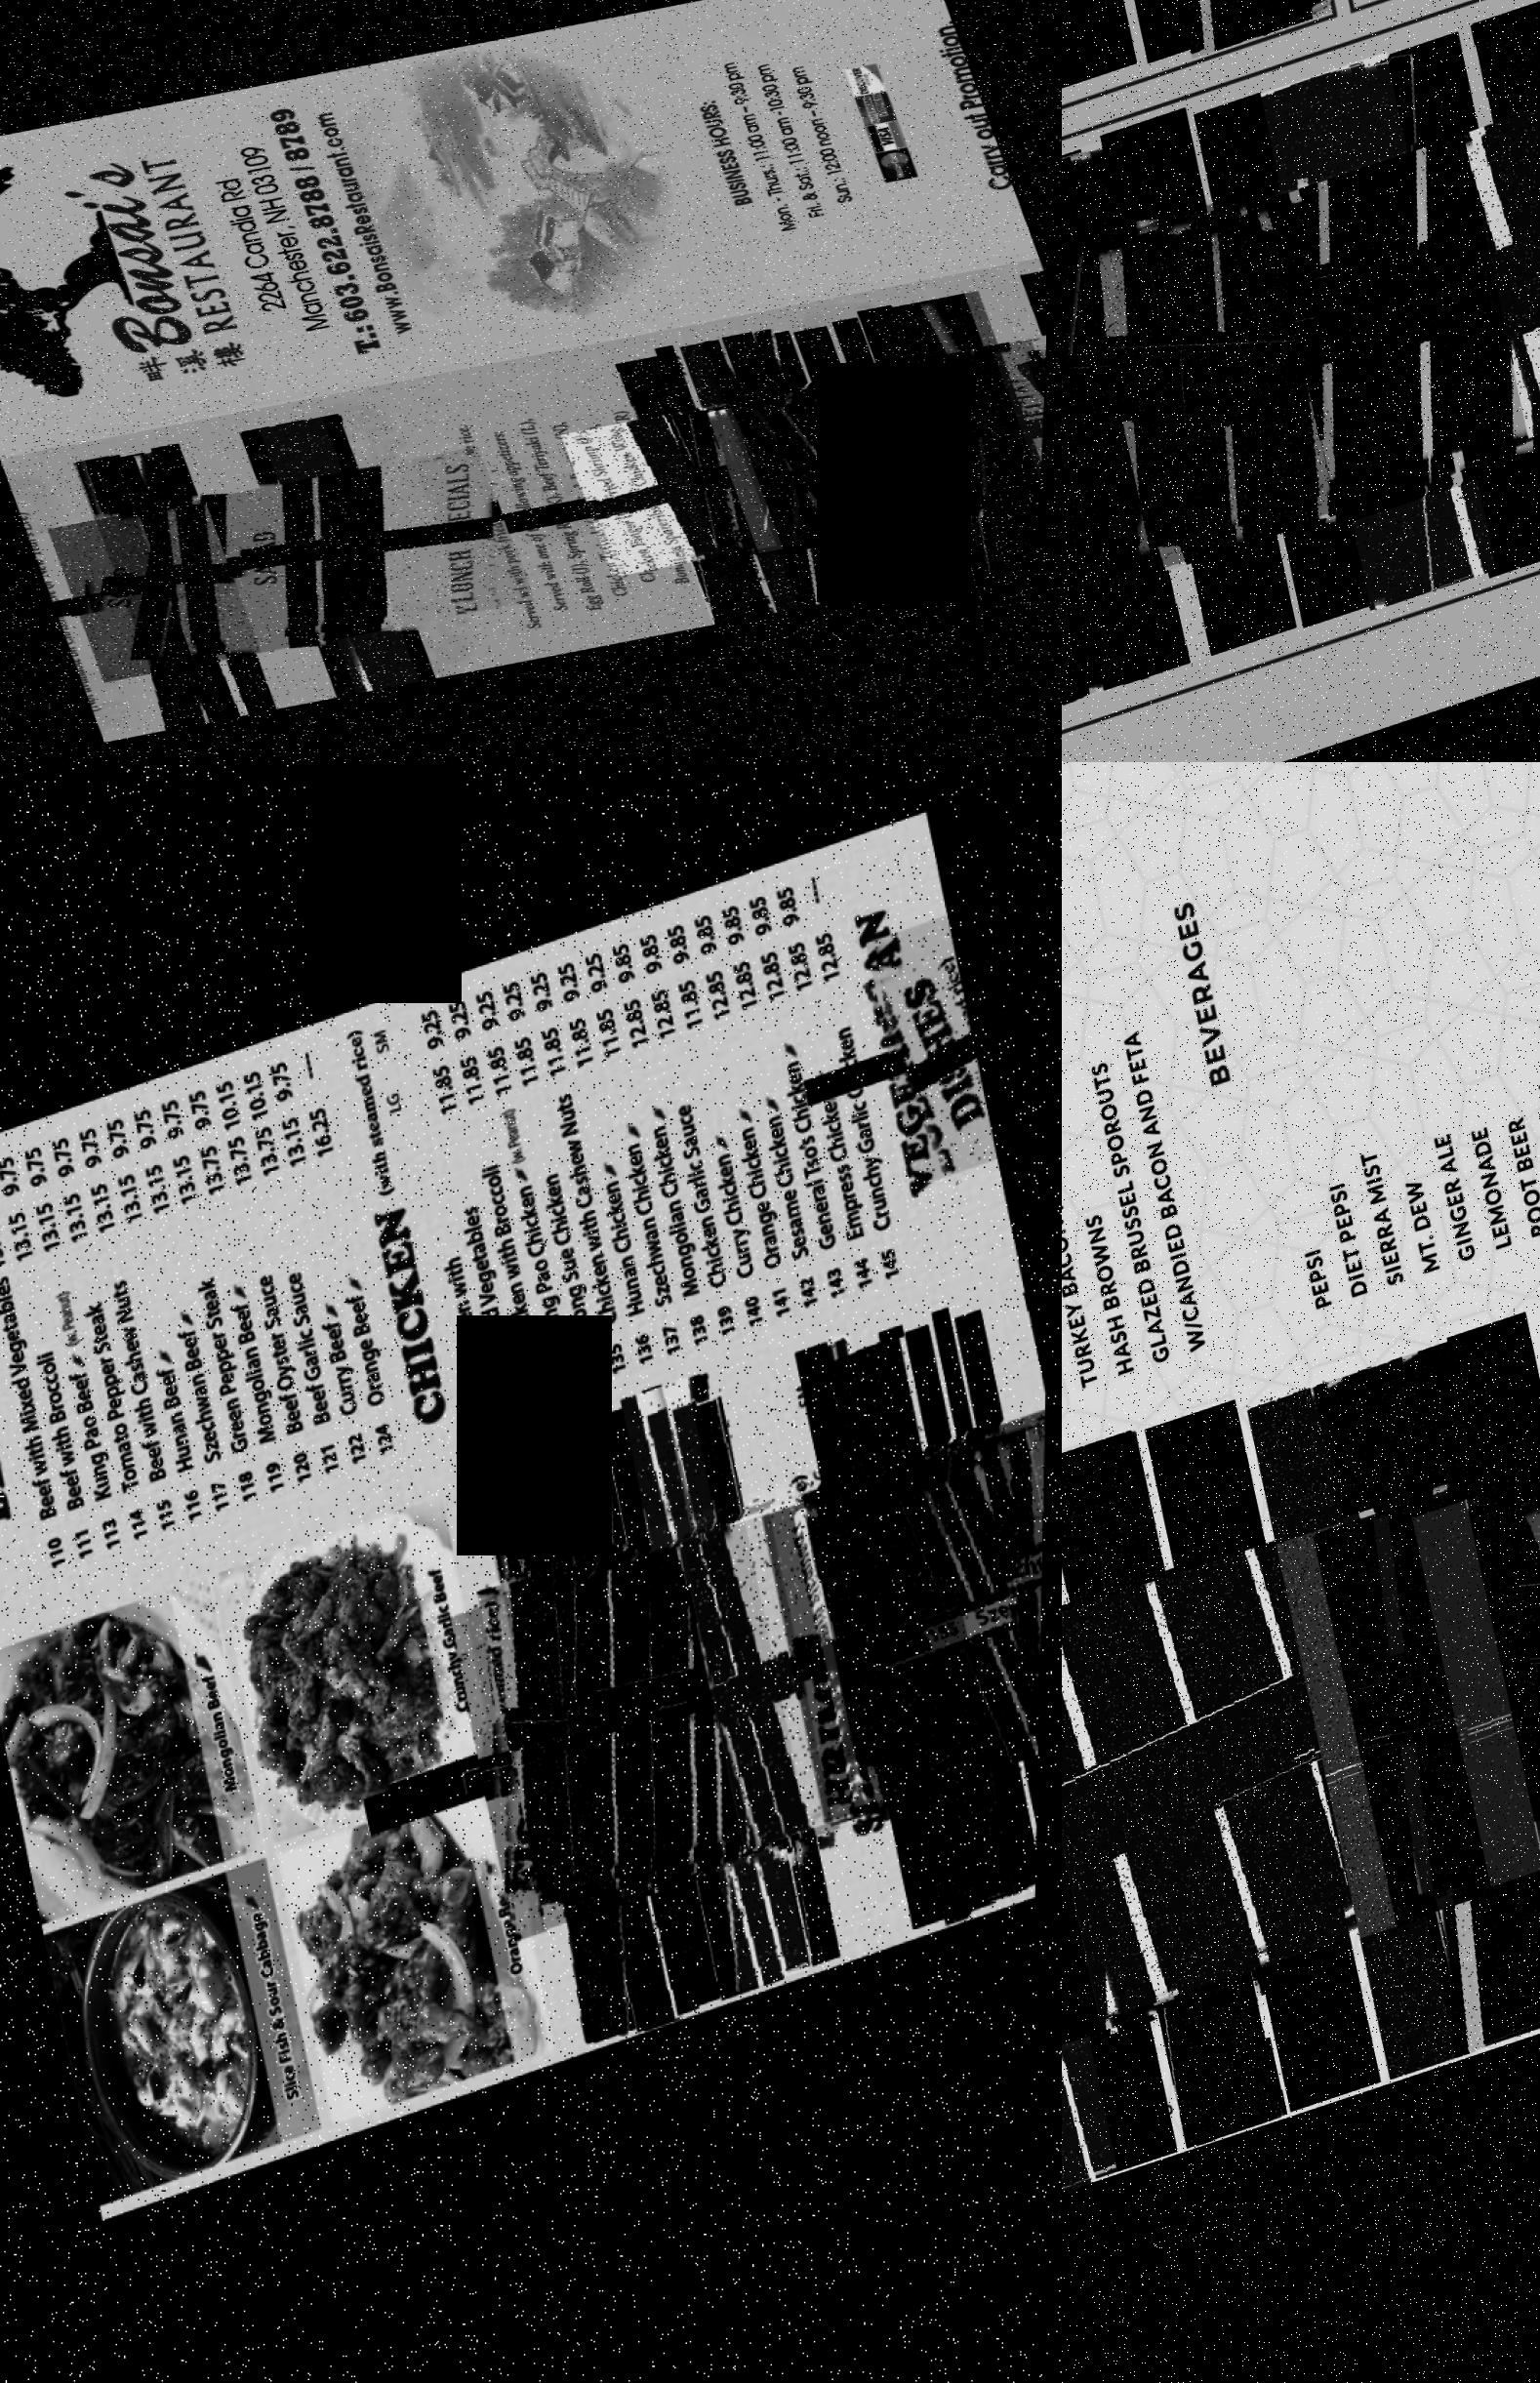Menu-Items: (1063, 1504, 1526, 2043), (474, 1483, 896, 1949), (1240, 1383, 1497, 2114), (1063, 1429, 1307, 2178), (1085, 163, 1498, 603), (446, 1509, 851, 1957), (1311, 1346, 1540, 2089), (550, 1485, 941, 1918), (1063, 179, 1413, 627), (681, 1442, 1049, 1867), (1063, 1558, 1337, 2117), (1255, 64, 1516, 646), (497, 1423, 722, 2062), (613, 1381, 825, 2020), (821, 1344, 1033, 1951), (469, 1443, 667, 2067), (1316, 1419, 1540, 1952), (1269, 122, 1540, 554), (762, 1435, 1049, 1841), (818, 1332, 990, 1956), (802, 1426, 1049, 1834), (688, 1391, 854, 1994), (795, 1445, 1049, 1827), (1063, 151, 1224, 728), (837, 1440, 1049, 1827), (1063, 762, 1191, 1400), (137, 460, 479, 672), (205, 448, 545, 660), (47, 476, 389, 686), (382, 1002, 536, 1454), (727, 358, 1050, 566), (1413, 1409, 1540, 1916), (1063, 1601, 1174, 2178), (667, 377, 986, 573), (1063, 1480, 1144, 2242), (1063, 762, 1158, 1412), (561, 393, 875, 587), (592, 931, 727, 1381), (200, 1065, 335, 1515), (488, 971, 622, 1423), (759, 351, 1050, 558), (705, 373, 1017, 566), (731, 893, 866, 1337), (63, 1105, 194, 1555), (790, 875, 925, 1313), (625, 922, 755, 1374), (280, 1039, 413, 1478), (566, 947, 698, 1388), (172, 1073, 300, 1525), (679, 912, 811, 1351), (10, 1125, 141, 1570), (434, 988, 563, 1438), (144, 1082, 273, 1528), (543, 955, 672, 1396), (226, 1061, 354, 1502), (92, 1098, 219, 1544), (118, 1096, 247, 1535), (519, 962, 646, 1405), (762, 881, 887, 1322), (653, 922, 778, 1362), (40, 1122, 165, 1561), (696, 333, 884, 624), (255, 1051, 380, 1485), (710, 907, 832, 1337), (90, 446, 273, 733), (469, 981, 589, 1417), (253, 415, 434, 703), (0, 1136, 111, 1584), (879, 306, 1045, 591), (69, 450, 226, 736), (675, 344, 830, 627), (613, 360, 767, 639), (1113, 1011, 1226, 1388), (910, 299, 1052, 585), (1467, 24, 1540, 582), (863, 931, 1004, 1212), (1063, 762, 1122, 1419), (0, 1146, 85, 1589), (1460, 122, 1540, 474), (1063, 196, 1111, 750), (920, 346, 1050, 526), (977, 1443, 1049, 1770), (991, 353, 1050, 514), (1021, 353, 1050, 511)
